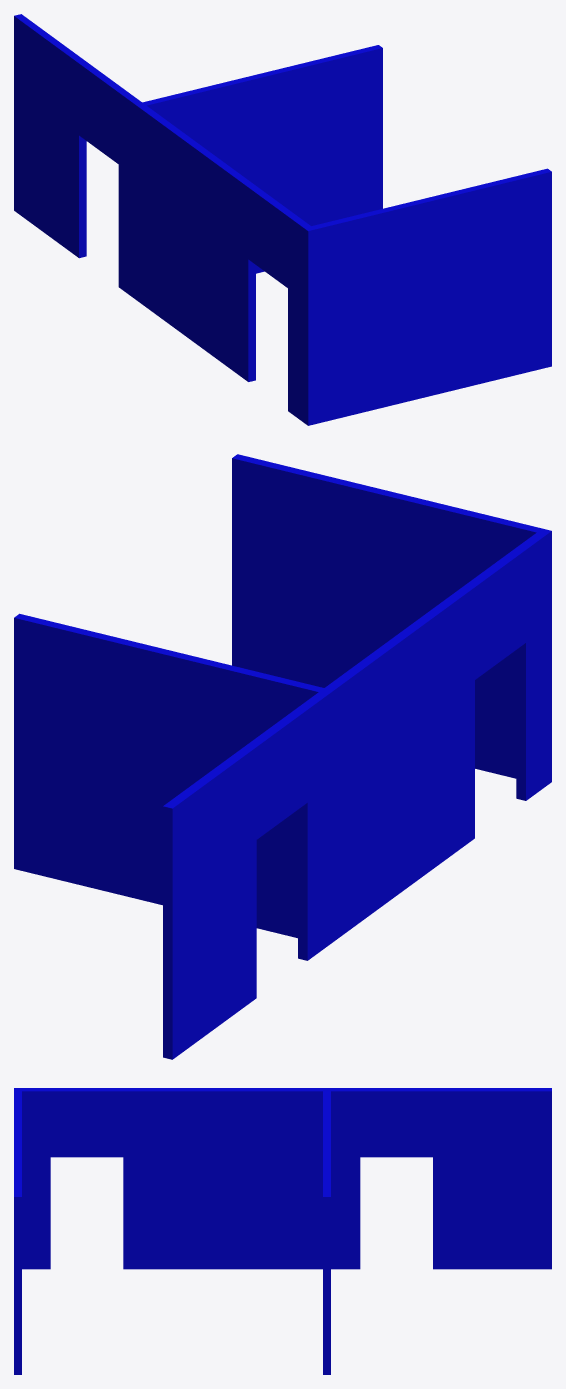
The model's file is SM_House_PartitionWall_02.fbx.
3 views of the same model, one above another, from view 1: azimuth 30°, elevation 25°; view 2: azimuth 150°, elevation 25°; view 3: azimuth 270°, elevation 25° (orthographic). The views are drawn at different scales.
Parts seen in each view (by area): view 1: SM_House_PartitionWall_02; view 2: SM_House_PartitionWall_02; view 3: SM_House_PartitionWall_02.
Part boxes in pixels (box(x1,y1,x2,y2)): SM_House_PartitionWall_02: box(14, 14, 551, 425); SM_House_PartitionWall_02: box(14, 454, 551, 1059); SM_House_PartitionWall_02: box(14, 1088, 551, 1374).
Bounding box in the file's own units: 426 × 890 × 325.
